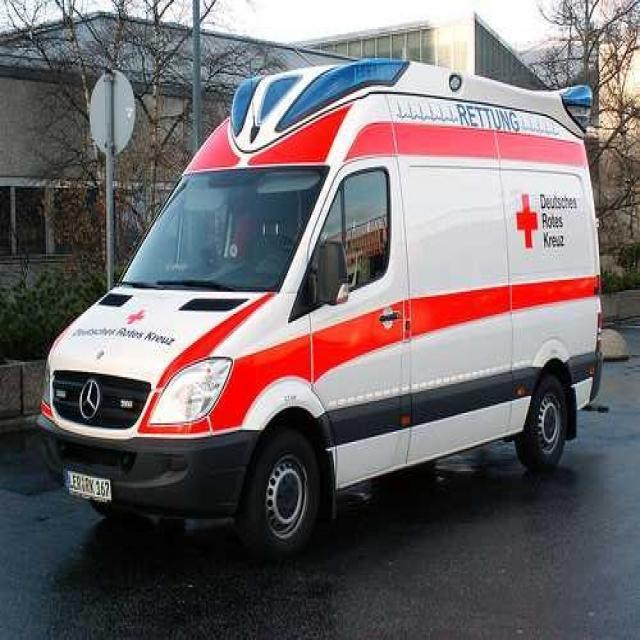emergency-vehicle: (37, 58, 622, 543)
